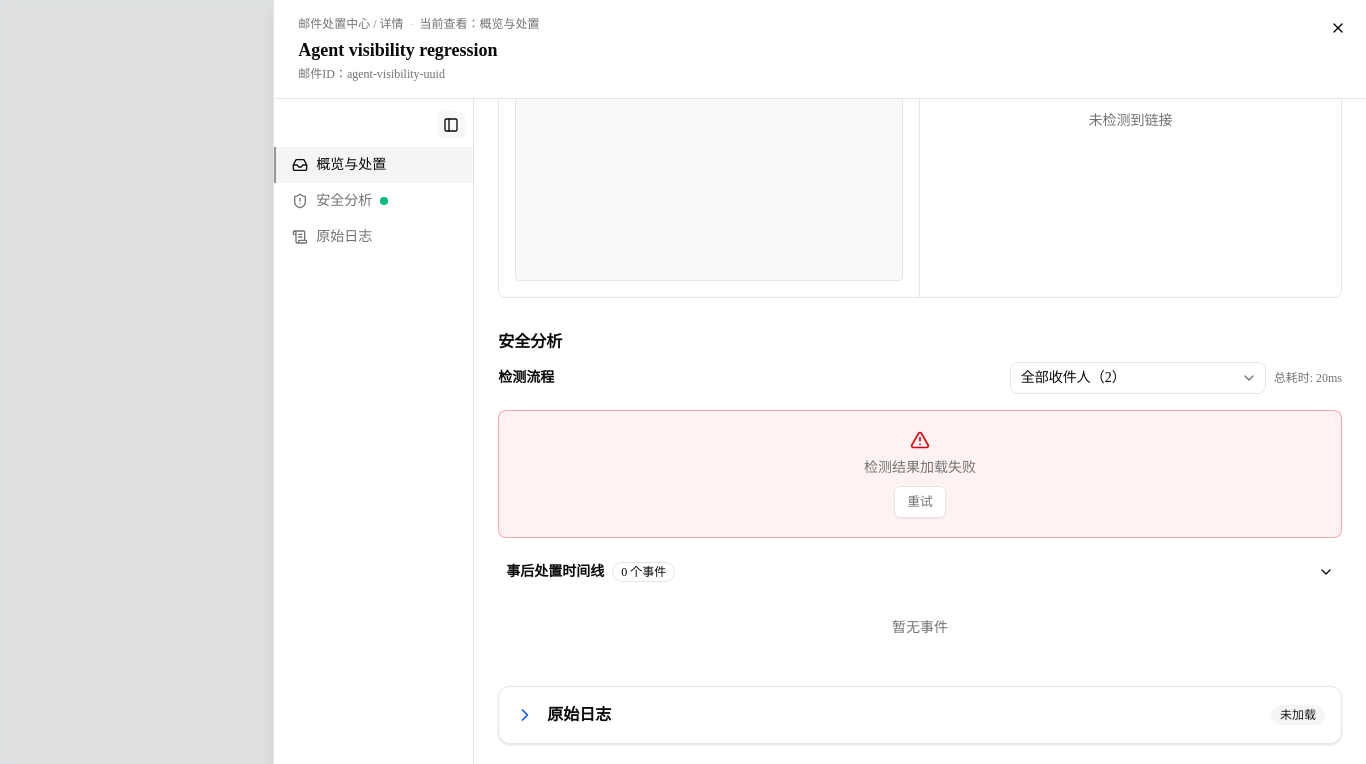
DetailModal agent visibility › fails closed on overview errors and retries both analysis inputs
This screenshot has width=1366, height=764.
(page scrolled)
Expected: the element with test id "analysis-error" shows "检测结果加载失败", [864,460,976,475]
Click the button "重试" at (920, 502), box [894,486,946,518]
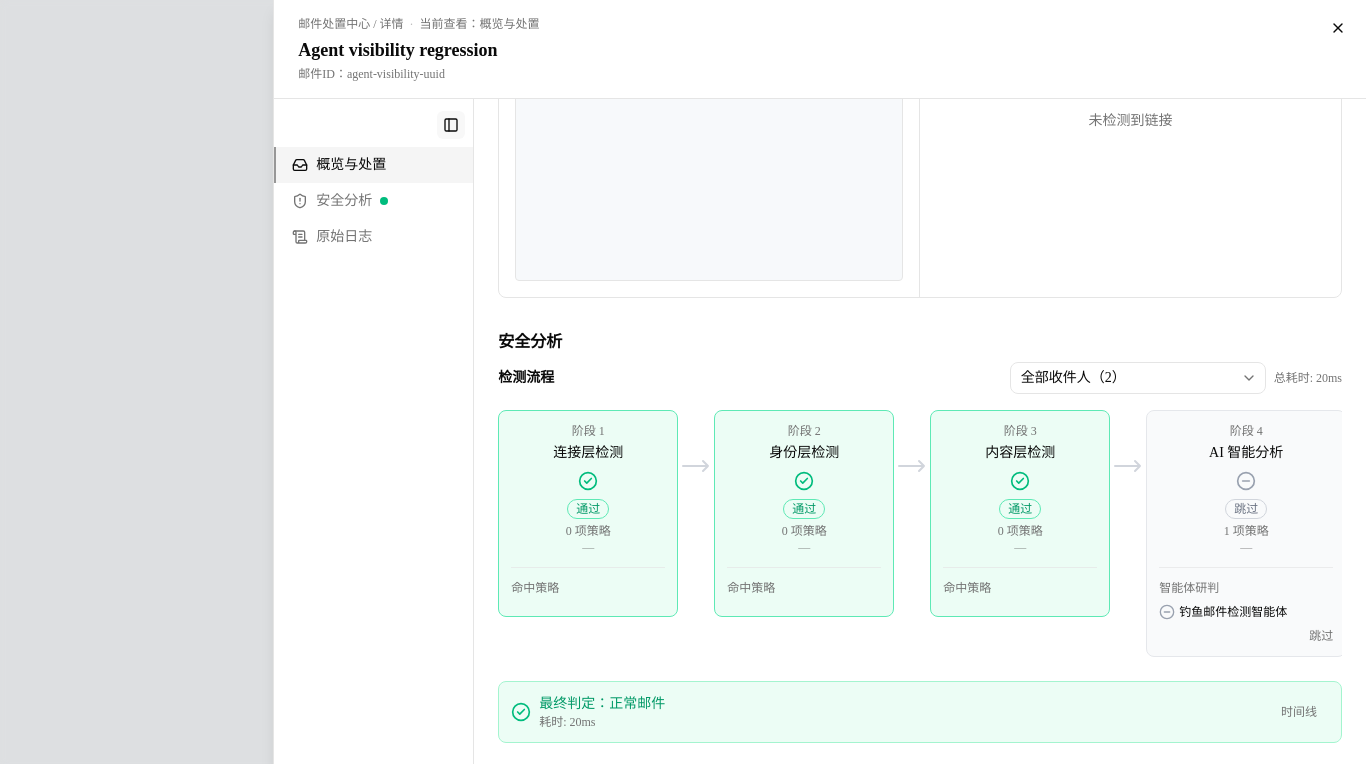
Now the element with test id "analysis-check-phishingAgent" shows "跳过", box [1309,629,1333,643]
